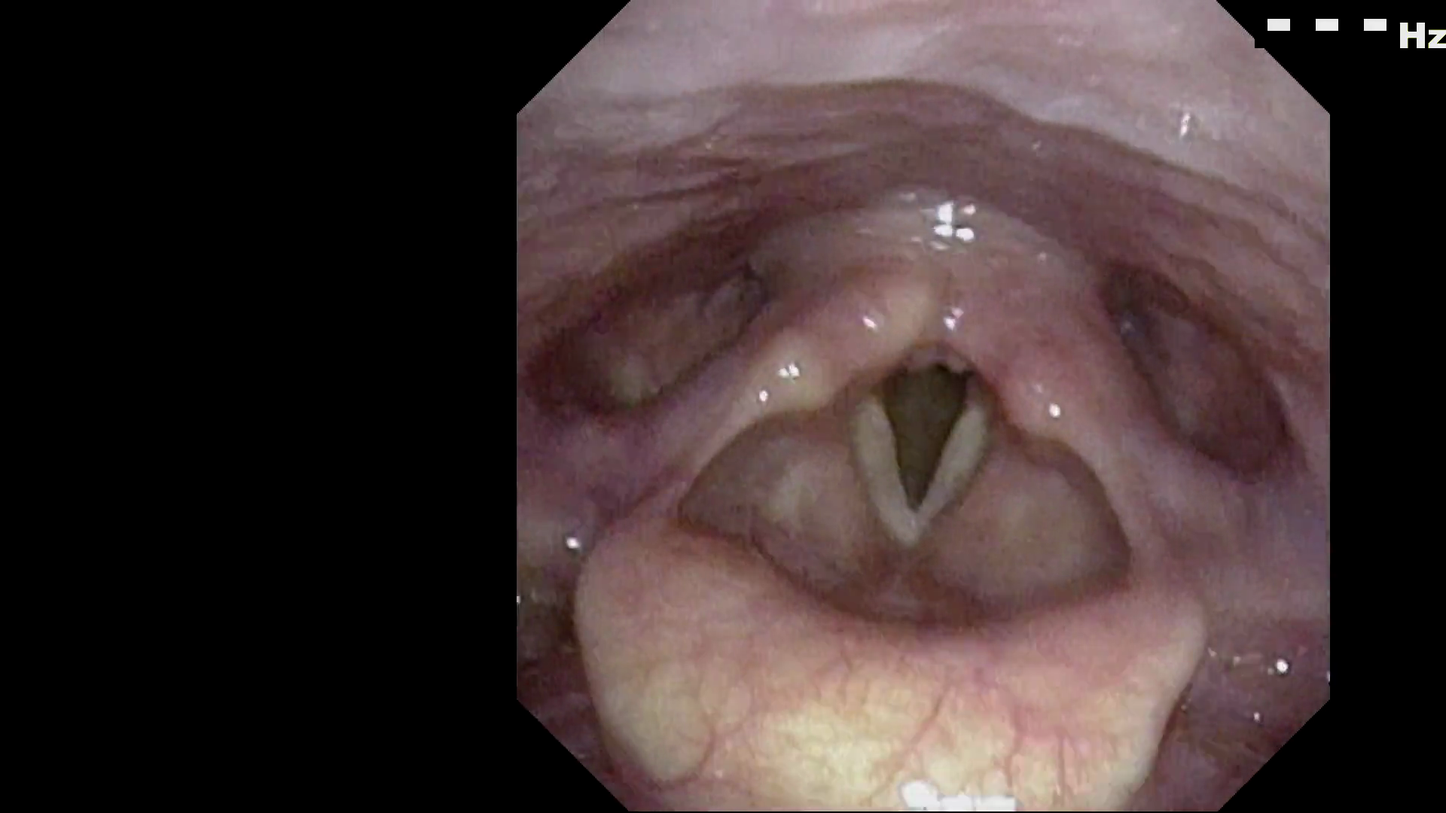epiglottis: (561, 503, 1209, 740)
trachea: (836, 331, 1015, 556)
